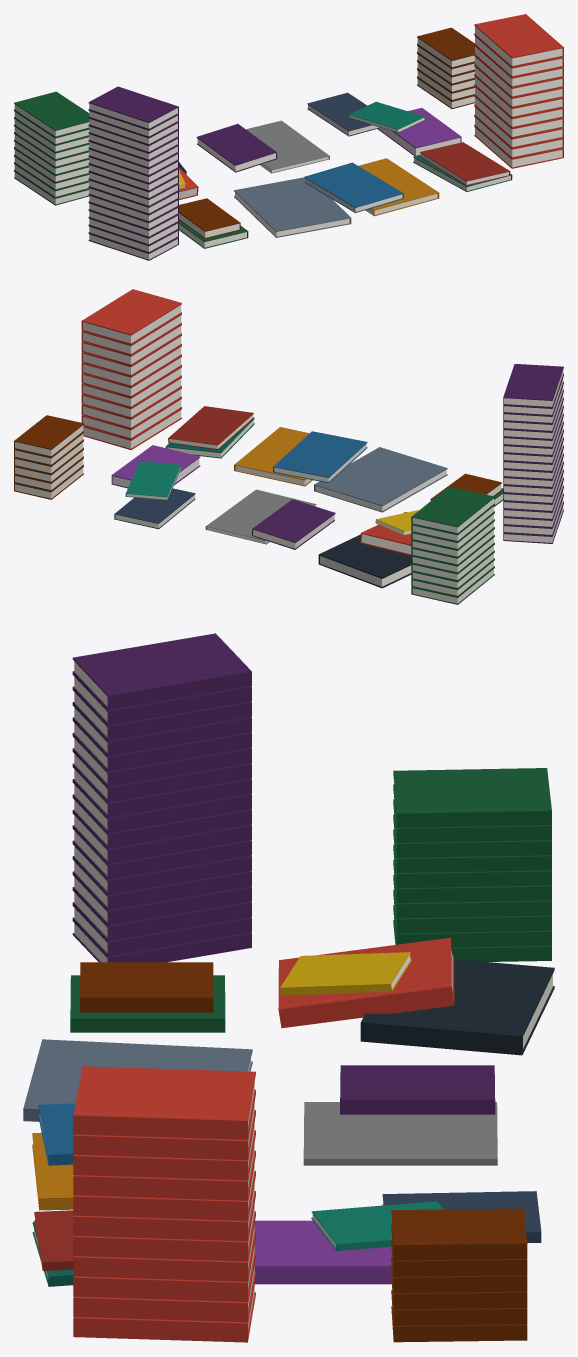
The model's file is Table Books.fbx.
3 views of the same model, one above another, from view 1: azimuth 30°, elevation 25°; view 2: azimuth 150°, elevation 25°; view 3: azimuth 270°, elevation 25° (orthographic). The views are drawn at different scales.
Parts seen in each view (by area): view 1: 4_Book.002, 6_Book.002, 7_Book.002, Book Wide.002, Book Thick.002, 8_Book.002, 4_Book.003, Book Thin.002, 2_Book.002, Book Big.002, 1_Book.002, Book Thick.003 (+5 smaller); view 2: 6_Book.002, 4_Book.002, 7_Book.002, Book Wide.002, Book Thick.002, 8_Book.002, Book Square.002, 4_Book.003, 2_Book.002, Book Thin.002, Book Big.002, 3_Book.002 (+6 smaller); view 3: 4_Book.002, 6_Book.002, 7_Book.002, Book Thick.002, Book Square.002, Book Thin.002, 4_Book.003, 6_Book.003, Book Wide.002, 1_Book.002, Book Thick.003, 5_Book.002 (+6 smaller).
Part boxes in pixels (x1=…): 4_Book.002: x1=88, y1=86, x2=178, y2=260; 6_Book.002: x1=474, y1=14, x2=563, y2=168; 7_Book.002: x1=14, y1=91, x2=89, y2=205; Book Wide.002: x1=234, y1=177, x2=351, y2=237; Book Thick.002: x1=417, y1=27, x2=474, y2=109; 8_Book.002: x1=304, y1=162, x2=403, y2=212; 4_Book.003: x1=196, y1=124, x2=277, y2=172; Book Thin.002: x1=246, y1=120, x2=329, y2=173; 2_Book.002: x1=419, y1=142, x2=510, y2=185; Book Big.002: x1=358, y1=158, x2=439, y2=216; 1_Book.002: x1=377, y1=108, x2=461, y2=156; Book Thick.003: x1=179, y1=198, x2=240, y2=238; 6_Book.002: x1=81, y1=289, x2=181, y2=449; 4_Book.002: x1=503, y1=364, x2=563, y2=543; 7_Book.002: x1=411, y1=486, x2=494, y2=604; Book Wide.002: x1=314, y1=447, x2=447, y2=512; Book Thick.002: x1=14, y1=415, x2=83, y2=499; 8_Book.002: x1=273, y1=431, x2=367, y2=482; Book Square.002: x1=318, y1=534, x2=411, y2=588; 4_Book.003: x1=252, y1=499, x2=335, y2=549; 2_Book.002: x1=168, y1=406, x2=254, y2=449; Book Thin.002: x1=205, y1=489, x2=316, y2=544; Book Big.002: x1=234, y1=427, x2=312, y2=486; 3_Book.002: x1=114, y1=488, x2=195, y2=529; 4_Book.002: x1=72, y1=633, x2=251, y2=962; 6_Book.002: x1=73, y1=1066, x2=255, y2=1342; 7_Book.002: x1=393, y1=768, x2=551, y2=961; Book Thick.002: x1=391, y1=1208, x2=527, y2=1342; Book Square.002: x1=360, y1=959, x2=554, y2=1055; Book Thin.002: x1=303, y1=1102, x2=497, y2=1165; 4_Book.003: x1=340, y1=1065, x2=495, y2=1114; 6_Book.003: x1=278, y1=937, x2=454, y2=1028; Book Wide.002: x1=23, y1=1039, x2=252, y2=1121; 1_Book.002: x1=254, y1=1220, x2=392, y2=1284; Book Thick.003: x1=80, y1=962, x2=213, y2=1012; 5_Book.002: x1=280, y1=952, x2=411, y2=995.
Bounding box in the file's own units: 1.35 × 0.6956 × 0.4066.
